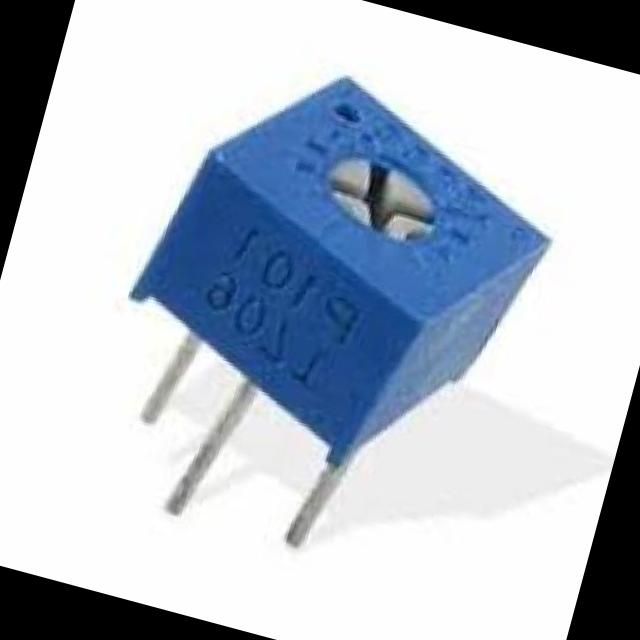potentiometer: (100, 25, 590, 492)
